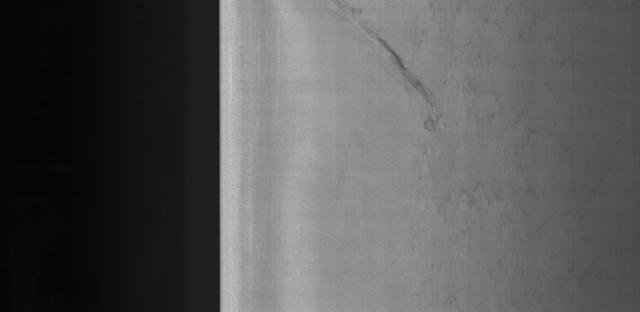silk_spot: (463, 26, 611, 293)
water_spot: (329, 0, 455, 144)
